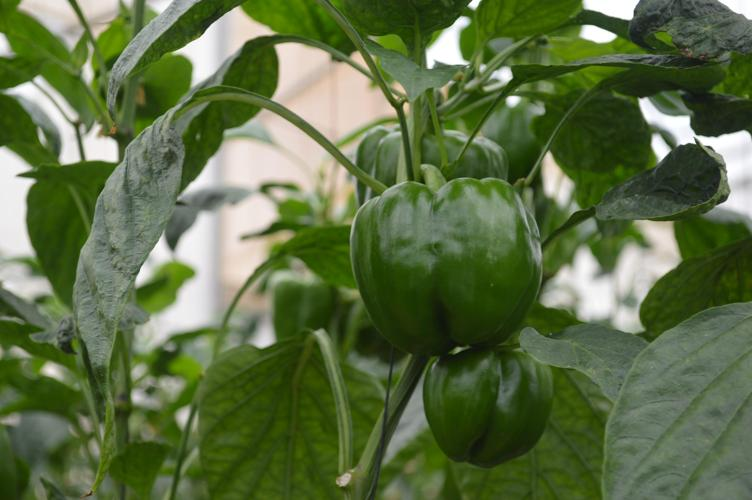BellPepper: (342, 178, 538, 347), (417, 351, 556, 466), (350, 123, 507, 183)
